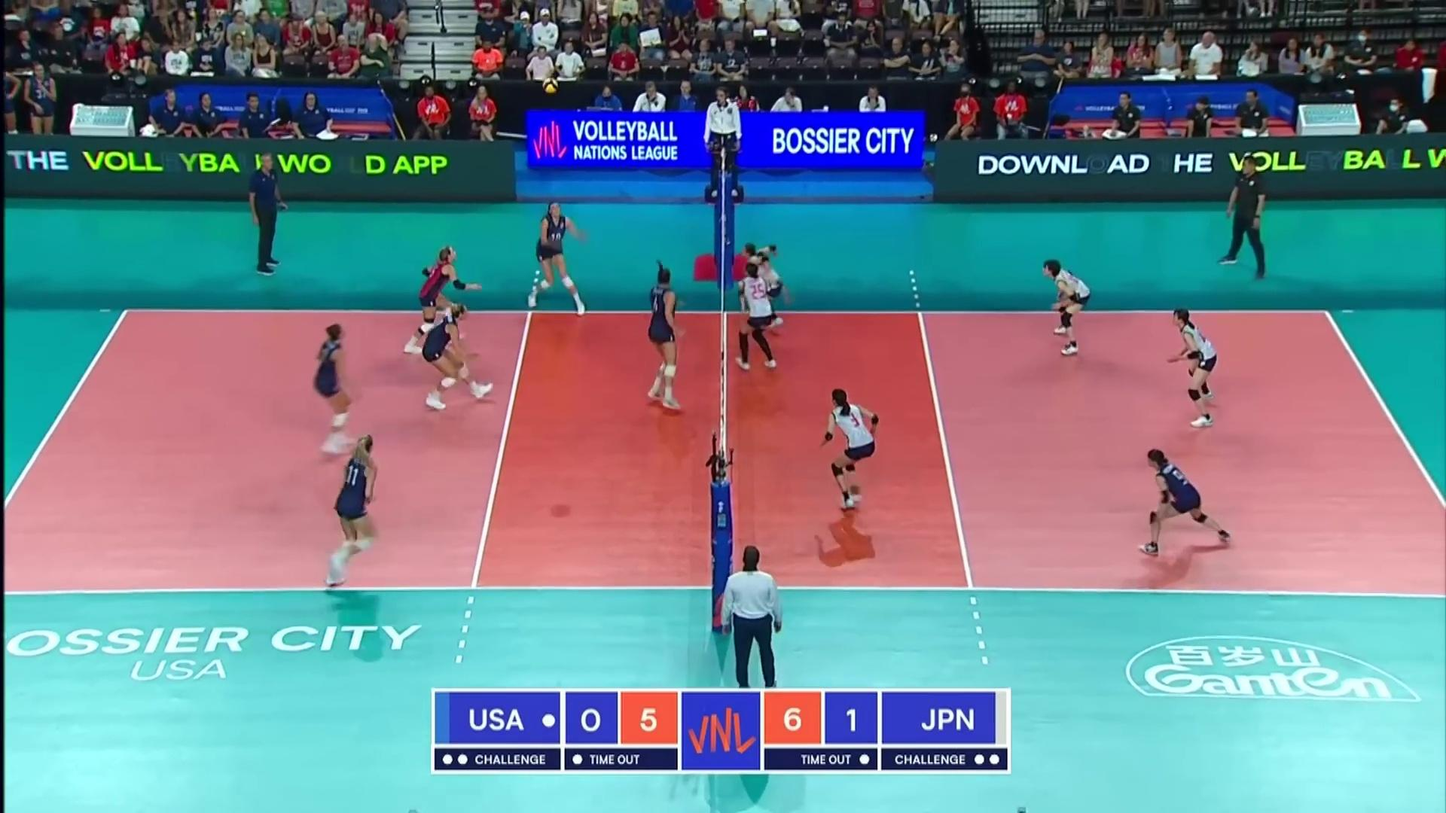player: (1143, 451, 1238, 557), (326, 434, 378, 590), (818, 388, 881, 510), (405, 246, 474, 354), (424, 302, 491, 407), (643, 265, 687, 414), (529, 199, 587, 312), (1164, 310, 1218, 428), (311, 325, 357, 454), (1041, 258, 1092, 354), (735, 262, 778, 369), (736, 242, 783, 324)
refree: (718, 549, 784, 687), (703, 87, 743, 198)
